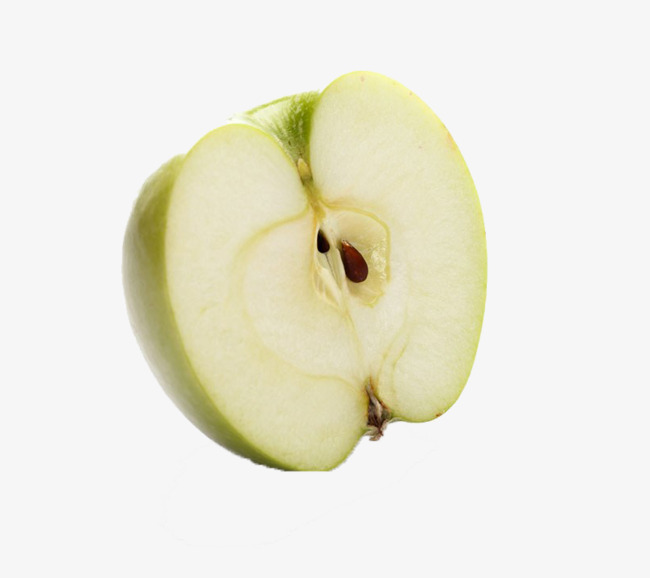apple: (78, 72, 484, 481)
